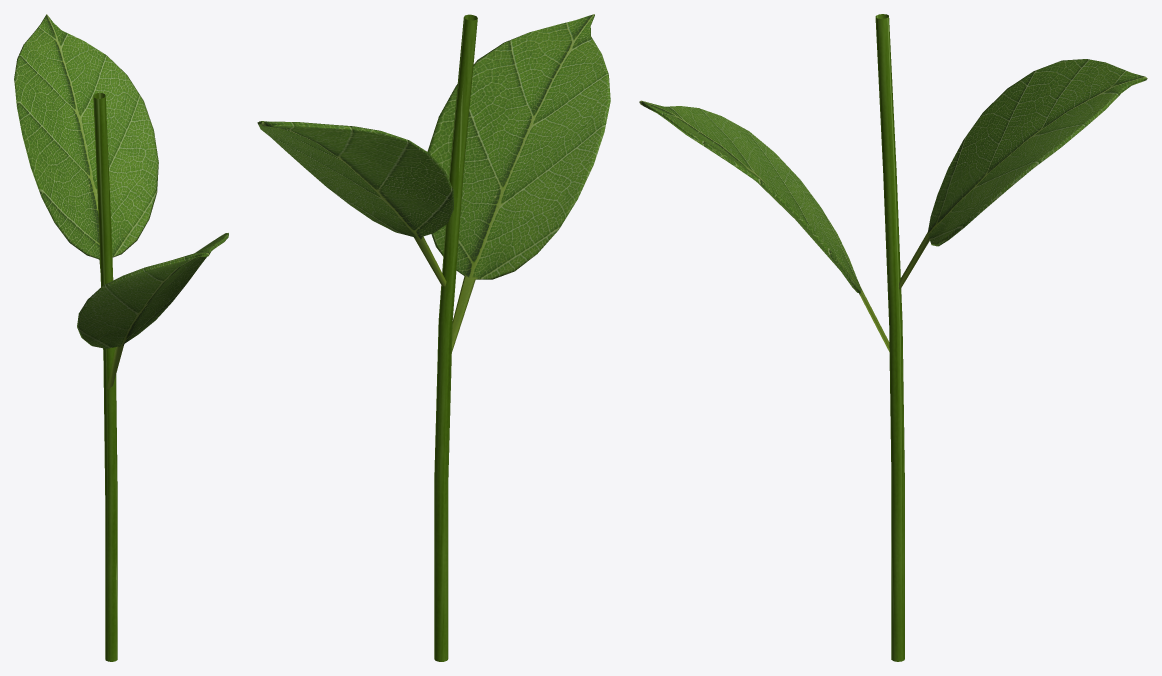
Rendered from Stem3.fbx.
3 views of the same model, side by side, from view 1: azimuth 30°, elevation 25°; view 2: azimuth 150°, elevation 25°; view 3: azimuth 270°, elevation 25° (orthographic). The views are drawn at different scales.
Parts seen in each view (by area): view 1: NewLeaf, NewLeaf1, Stem; view 2: NewLeaf1, NewLeaf, Stem; view 3: NewLeaf, Stem, NewLeaf1.
Boxes of the visible parts, bbox=[...] form: NewLeaf: bbox=[14, 14, 158, 272]; NewLeaf1: bbox=[77, 233, 228, 389]; Stem: bbox=[93, 93, 117, 661]; NewLeaf1: bbox=[427, 14, 610, 352]; NewLeaf: bbox=[257, 121, 453, 286]; Stem: bbox=[434, 14, 477, 661]; NewLeaf: bbox=[899, 59, 1147, 289]; Stem: bbox=[875, 14, 904, 661]; NewLeaf1: bbox=[639, 100, 889, 351].
Size of the model in its own units: 31.55 by 99.98 by 72.82.
